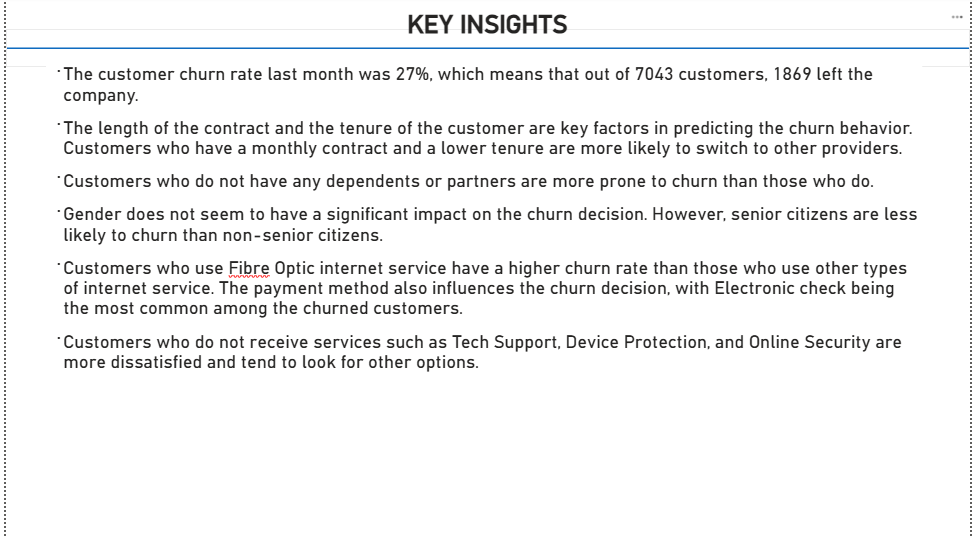

This screenshot's page, from the dashboard's own definition file:
{"tool":"powerbi","page":{"name":"Insights","canvas":[1280,720],"ordinal":2},"visuals":[{"type":"shape","box":[0,43.3,1280,51.1],"z":0},{"type":"textbox","box":[500,13.3,280,55.6],"z":1000},{"type":"textbox","box":[53.3,84.4,1164.4,635.6],"z":2000}]}

Visuals, with their boxes in screenshot pixels (x1, y1, x2, y2), scaled from the page's 1280x720 canvas onto the 977x537 screenshot:
shape: <region>0, 32, 976, 70</region>
textbox: <region>382, 10, 595, 51</region>
textbox: <region>41, 63, 929, 536</region>
